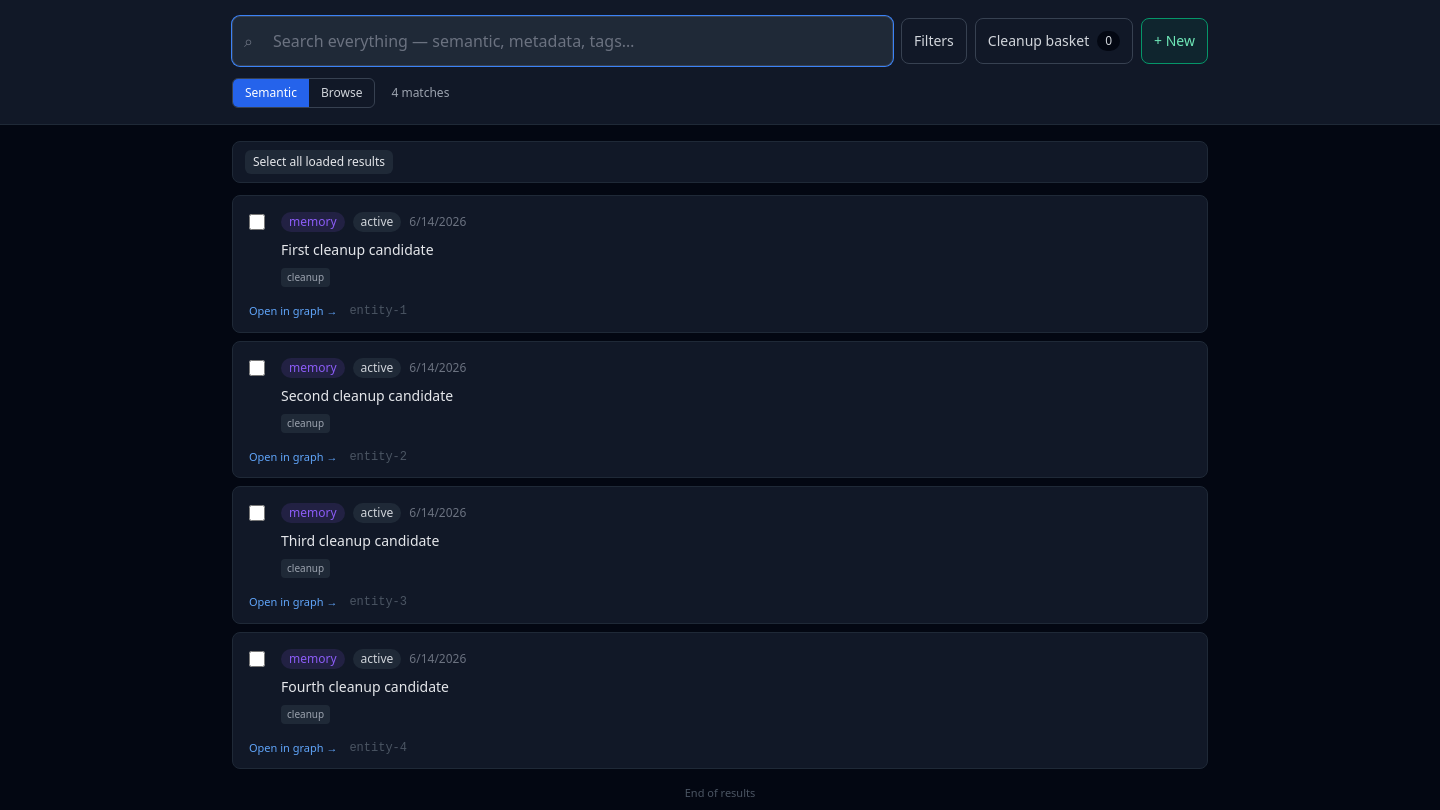
Test: SearchPage result selection › shift-click selects a visible result range from the previous anchor
Expected: the text "First cleanup candidate" is shown, [281,240,434,260]
Click the checkbox named "Select First cleanup candidate".
click(257, 222)  # box [249,214,265,230]
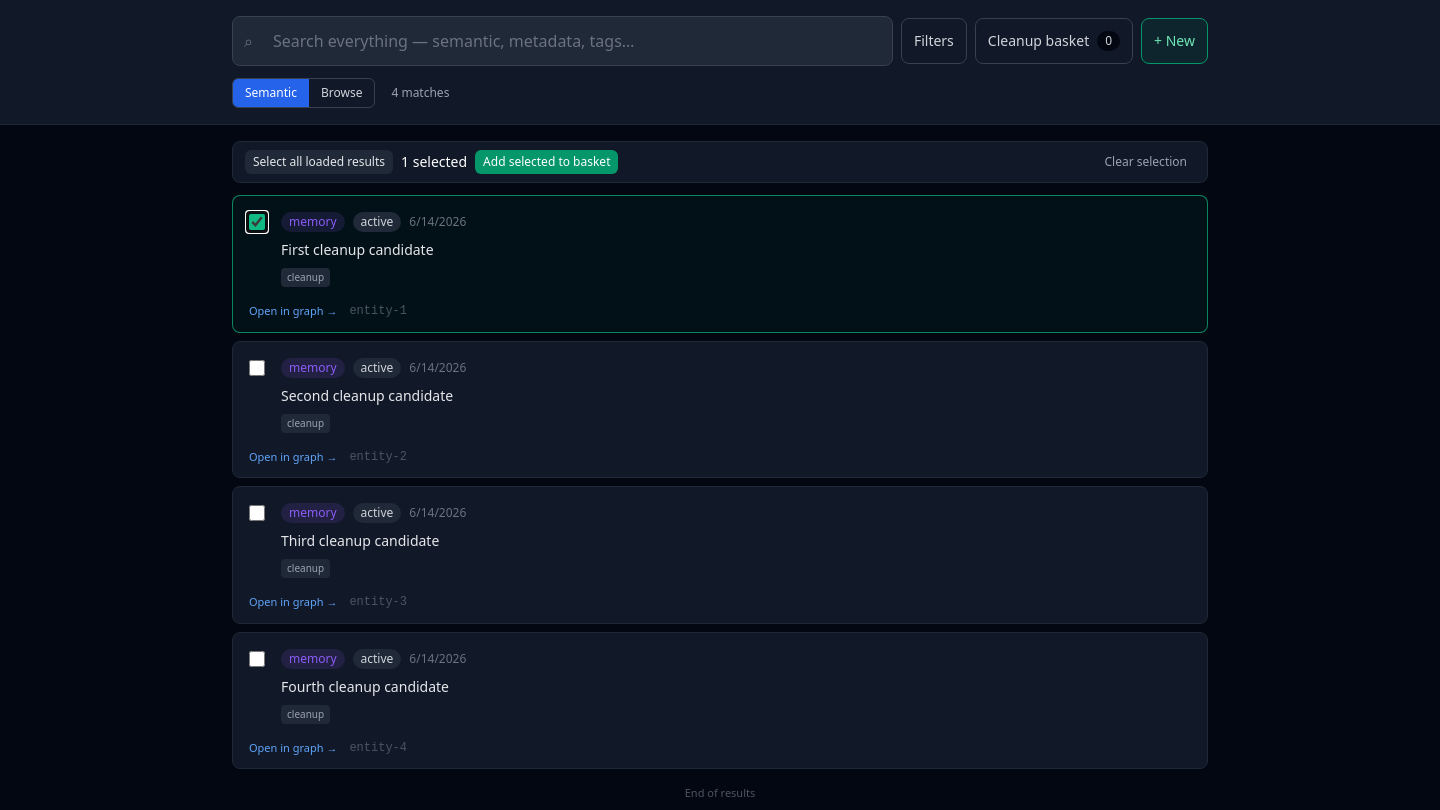
Click the checkbox named "Select Third cleanup candidate".
click(257, 513)  # box [249,505,265,521]
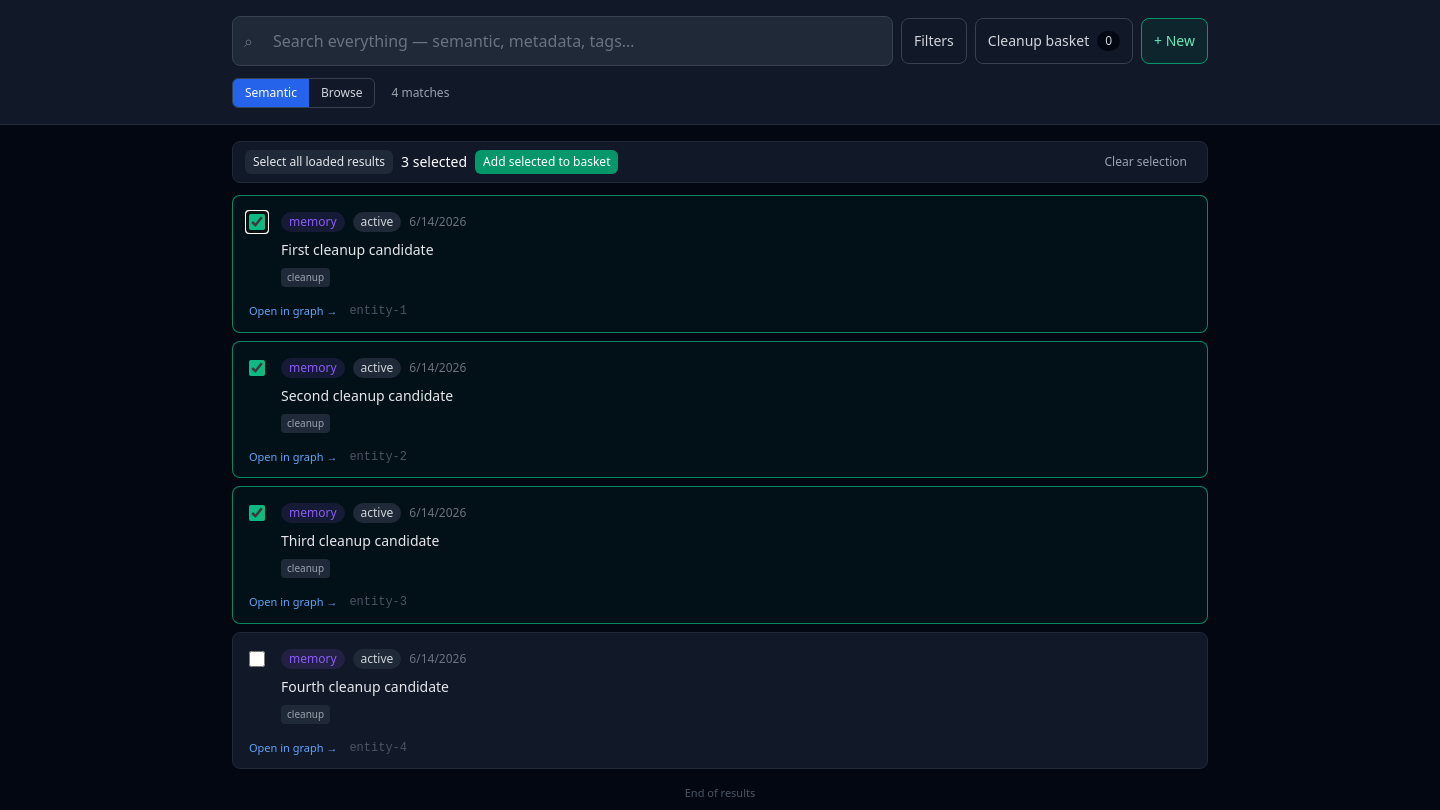
Expected: the checkbox named "Select First cleanup candidate" is checked, [249,214,265,230]
Expected: the checkbox named "Select Third cleanup candidate" is checked, [249,505,265,521]
Expected: the checkbox named "Select Second cleanup candidate" is checked, [249,360,265,376]
